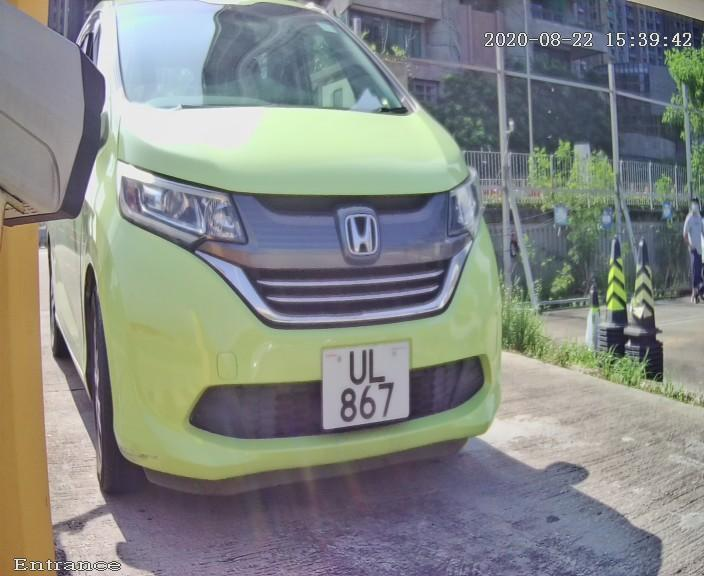Car: (13, 1, 547, 543)
License Plate: (312, 330, 422, 440)
